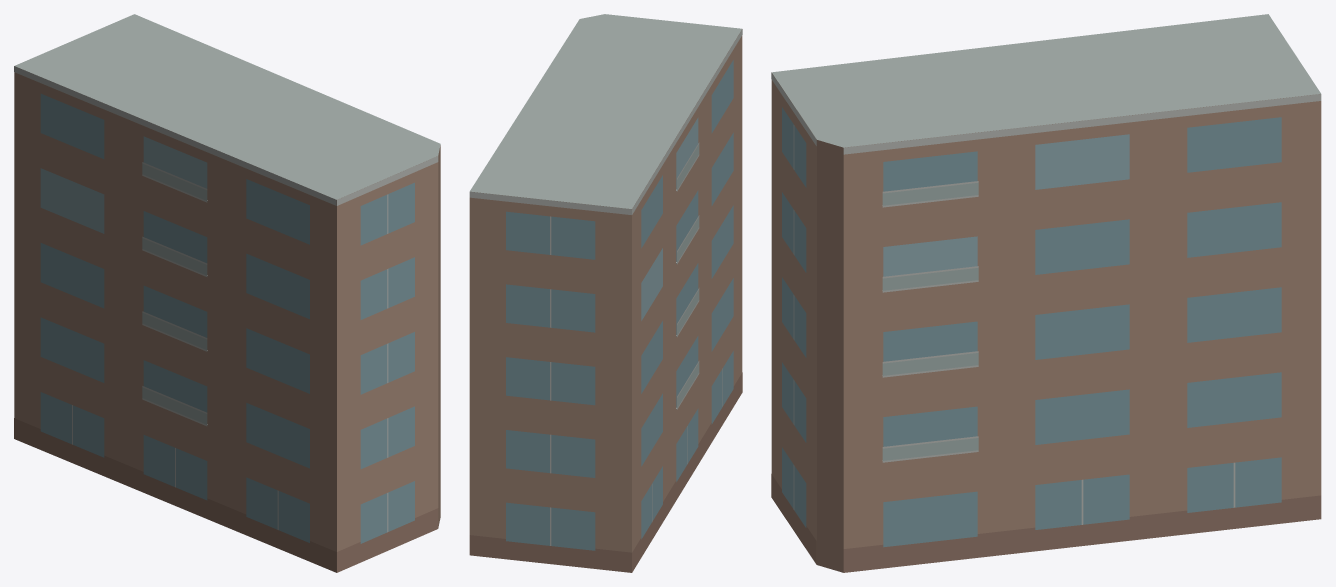
The model's file is survey-upis-32562896.glb.
3 views of the same model, side by side, from view 1: azimuth 30°, elevation 25°; view 2: azimuth 150°, elevation 25°; view 3: azimuth 270°, elevation 25° (orthographic). The views are drawn at different scales.
Visible parts, largest first — view 1: survey-upis-32562896.tmp; view 2: survey-upis-32562896.tmp; view 3: survey-upis-32562896.tmp.
Part boxes in pixels (box(x1,y1,x2,y2)): survey-upis-32562896.tmp: box(14, 14, 440, 572); survey-upis-32562896.tmp: box(469, 14, 742, 572); survey-upis-32562896.tmp: box(771, 14, 1321, 572).
Size of the model in its own units: 9.91 by 14.7 by 17.23.
